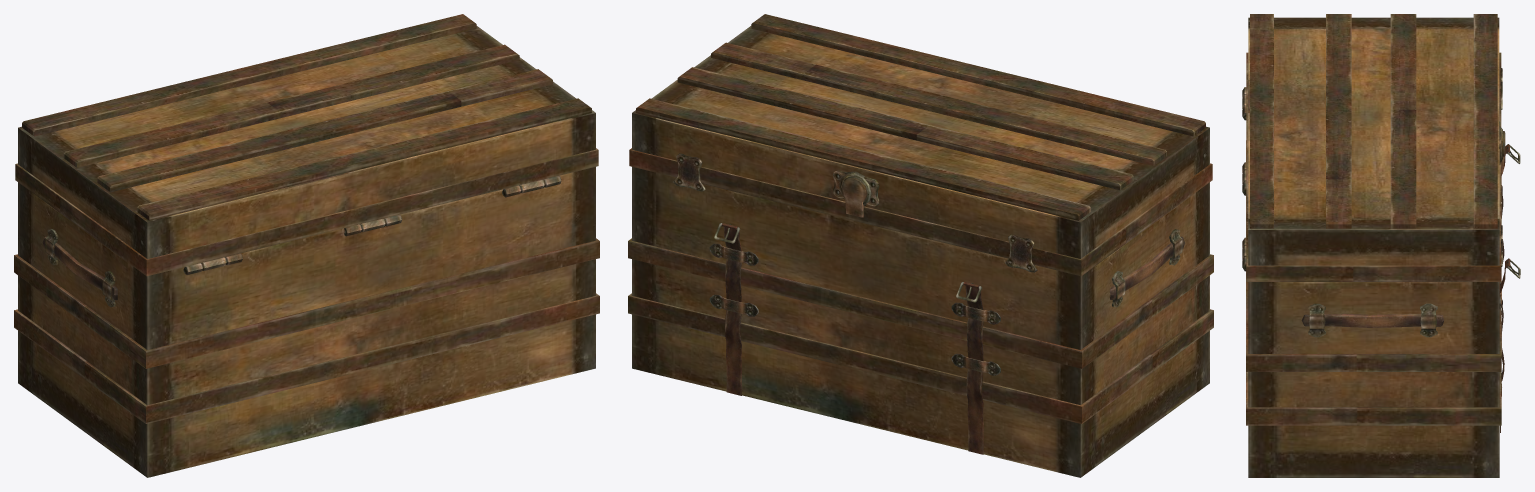
File: trunk-sea-chest.glb
3 renders of one model, left to right at view 1: azimuth 30°, elevation 25°; view 2: azimuth 150°, elevation 25°; view 3: azimuth 270°, elevation 25°, orthographic. The views are drawn at different scales.
Visible parts, largest first — view 1: trunk-sea-chest; view 2: trunk-sea-chest; view 3: trunk-sea-chest.
Part boxes in pixels (box(x1,y1,x2,y2)): trunk-sea-chest: box(14, 14, 599, 477); trunk-sea-chest: box(628, 14, 1213, 477); trunk-sea-chest: box(1242, 14, 1520, 477).
Bounding box in the file's own units: 0.95 × 0.5139 × 0.5109.
Materials: 1 (1 with a texture image).
